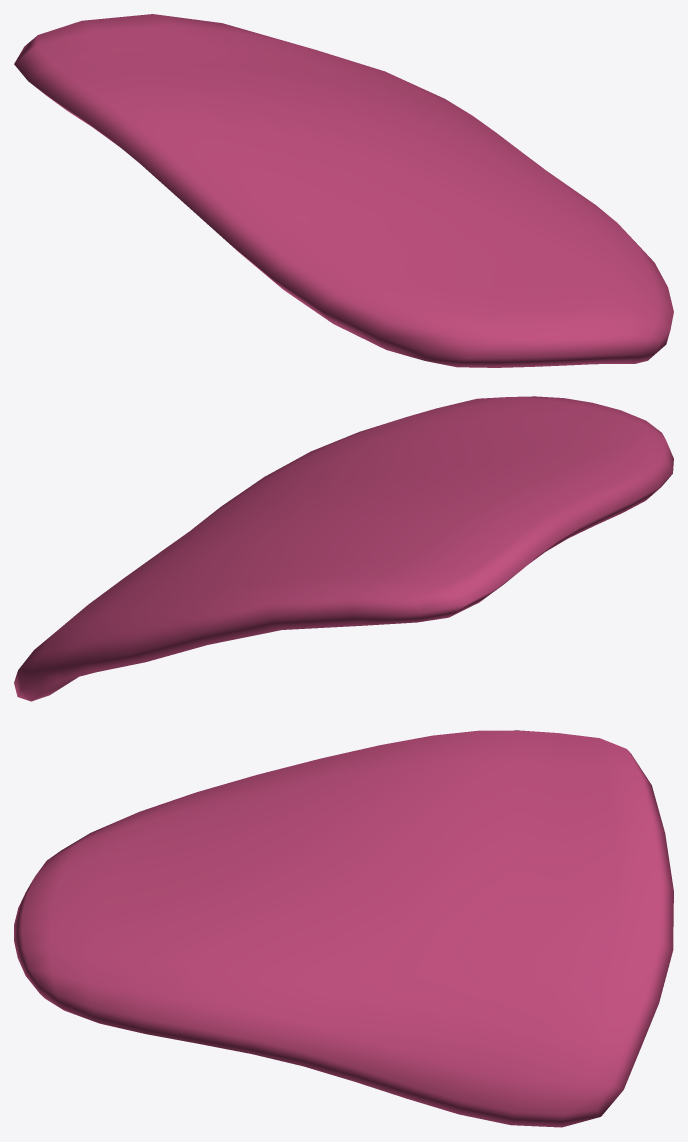
3 renders of one model, top to bottom at view 1: azimuth 30°, elevation 25°; view 2: azimuth 150°, elevation 25°; view 3: azimuth 270°, elevation 25°, orthographic. The views are drawn at different scales.
Parts seen in each view (by area): view 1: 右侧跟皮下囊; view 2: 右侧跟皮下囊; view 3: 右侧跟皮下囊.
Part boxes in pixels (x1=…): 右侧跟皮下囊: x1=14, y1=14, x2=673, y2=367; 右侧跟皮下囊: x1=14, y1=396, x2=673, y2=701; 右侧跟皮下囊: x1=14, y1=730, x2=673, y2=1127.
Size of the model in its own units: 0.0308 by 0.0143 by 0.0417.
